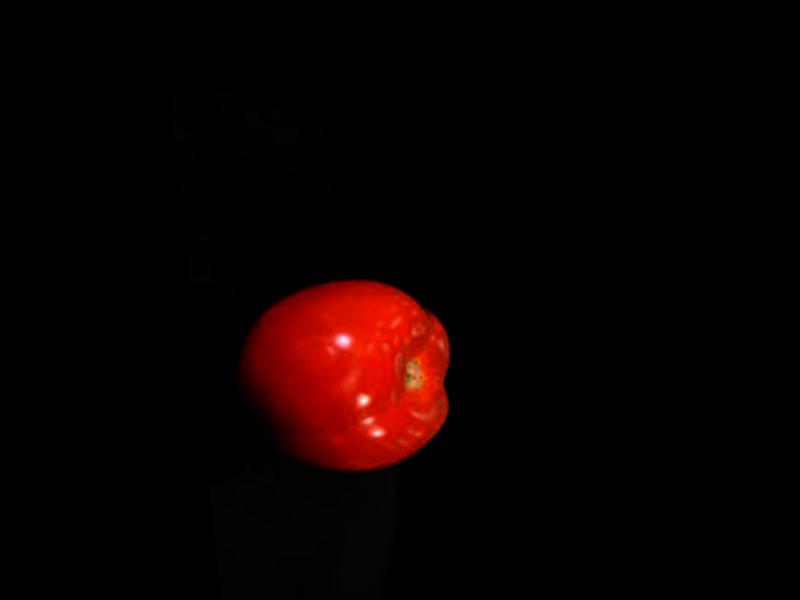Tomato: (231, 267, 462, 481)
